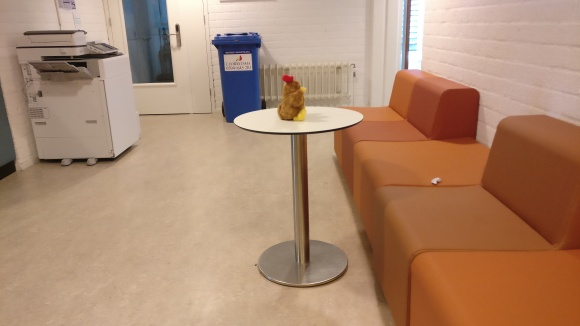chicken: (277, 73, 309, 121)
